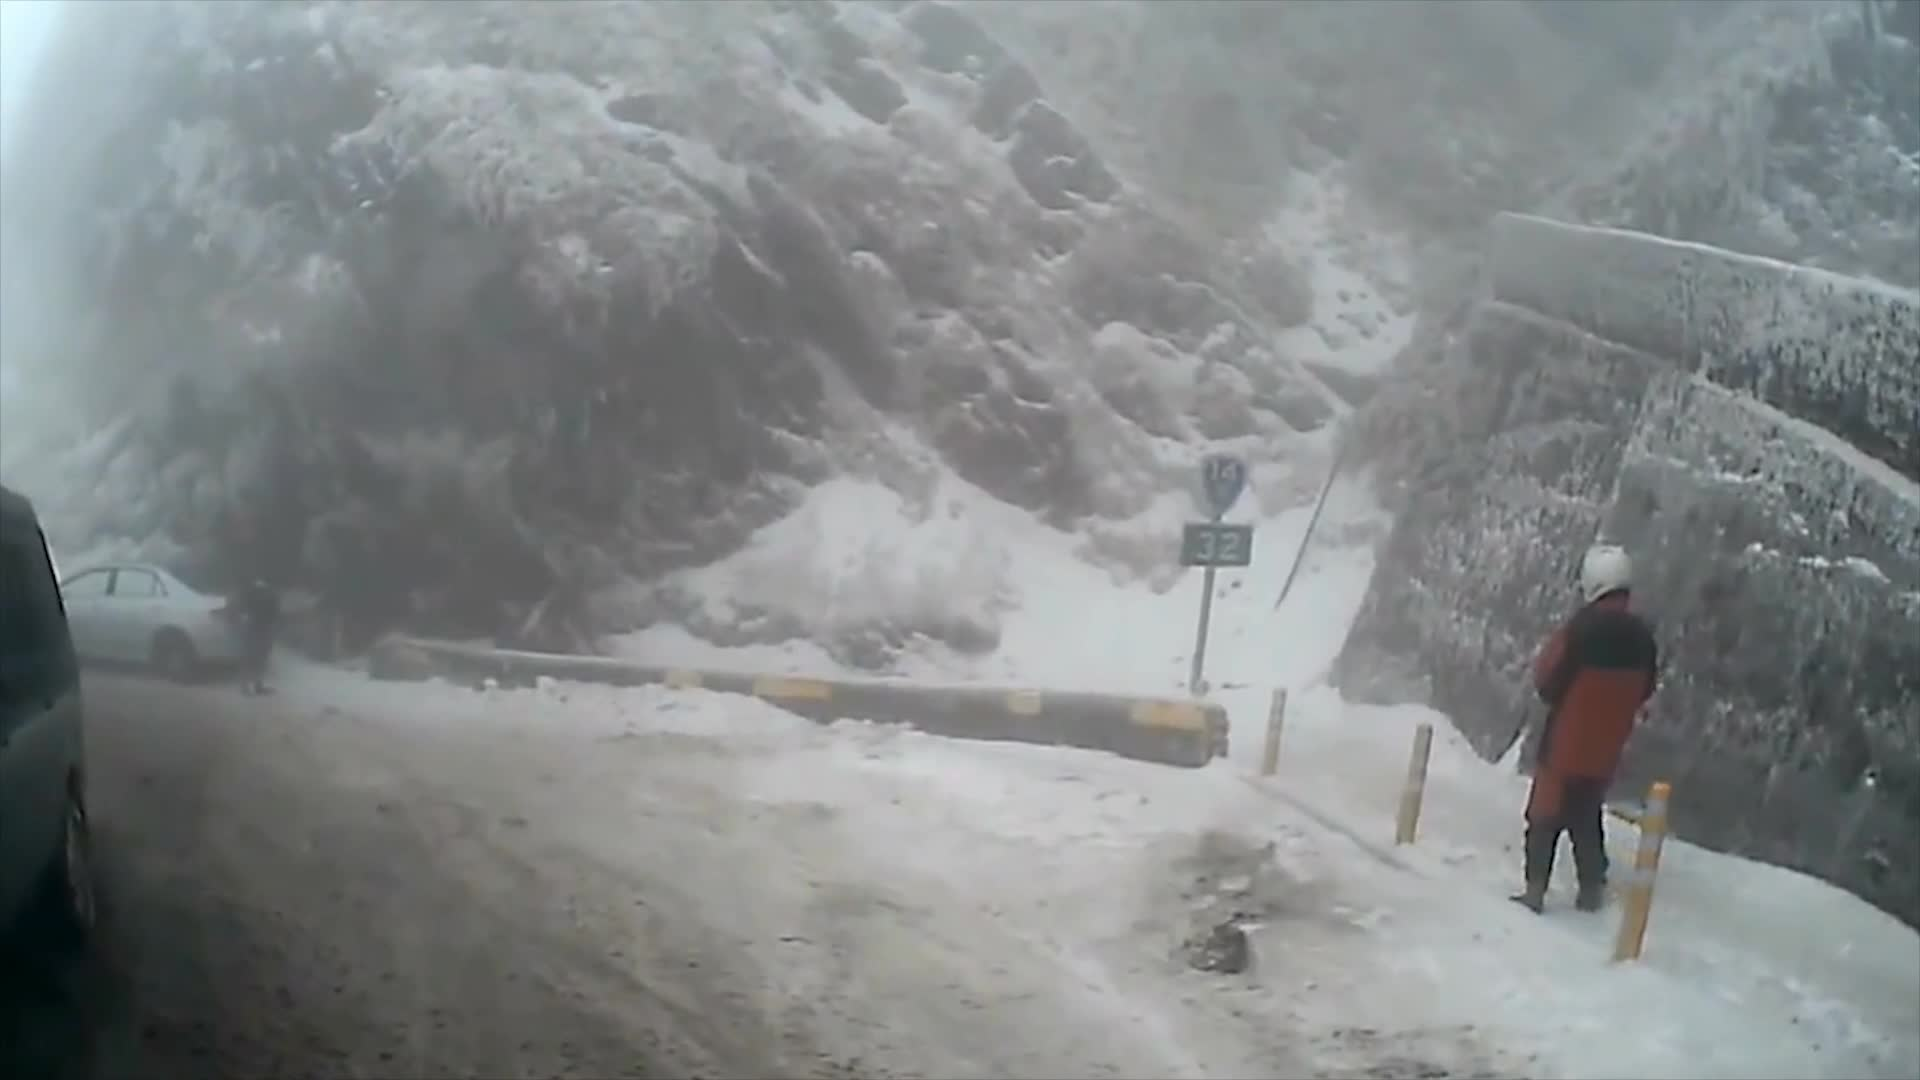pedestrian: (1507, 536, 1661, 917), (230, 569, 285, 700)
vehicle: (0, 484, 96, 1056), (0, 559, 253, 681)
